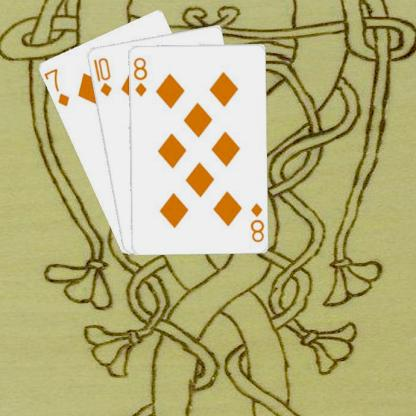10D: (90, 54, 113, 97)
7D: (42, 65, 71, 108)
8D: (131, 54, 148, 98), (247, 200, 264, 243)
